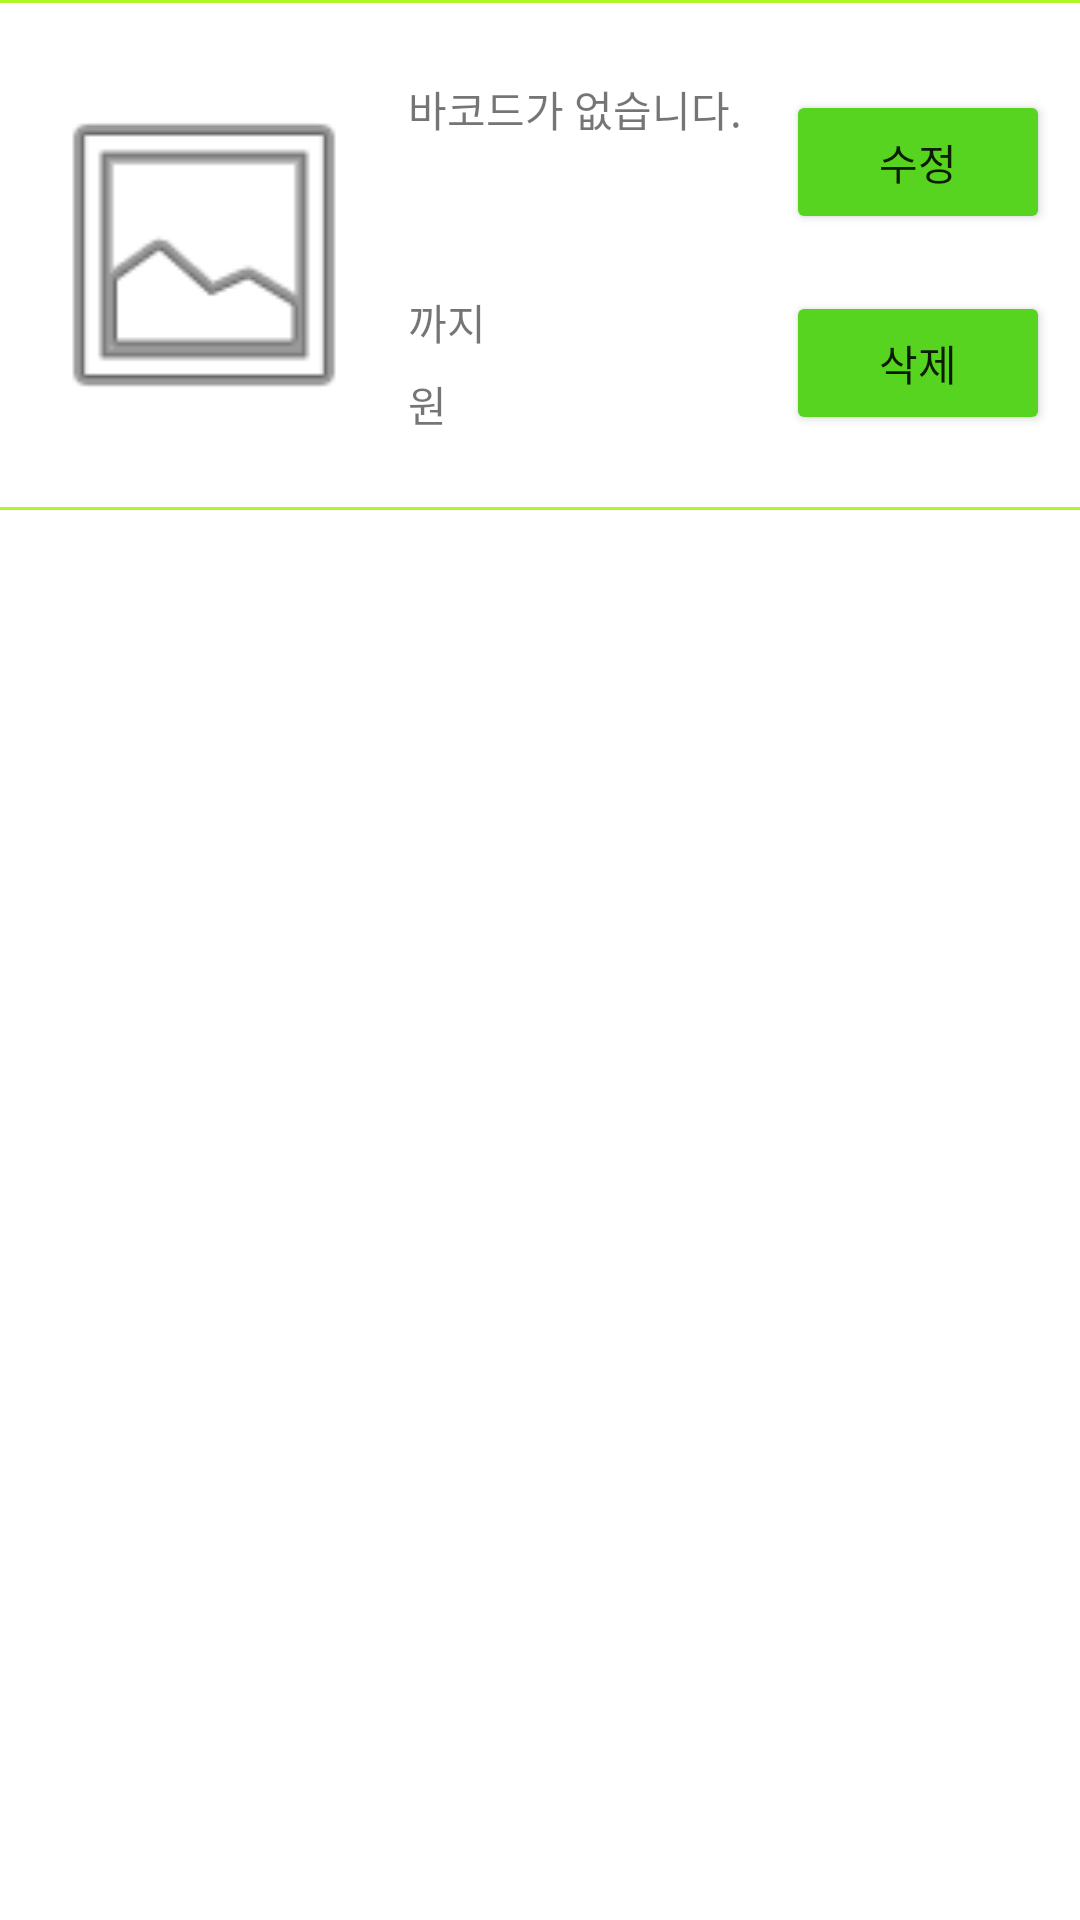

Where icons sit on this 1080px x 1920px app screen, as [x1=x1, y1=y1, x2=x2, y2=y2]:
사진: [x1=73, y1=123, x2=335, y2=387]
